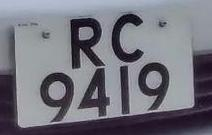1: (111, 63, 139, 116)
4: (75, 66, 116, 122)
9: (33, 68, 79, 127), (132, 56, 177, 114)
C: (106, 5, 155, 67)
R: (60, 10, 111, 73)
